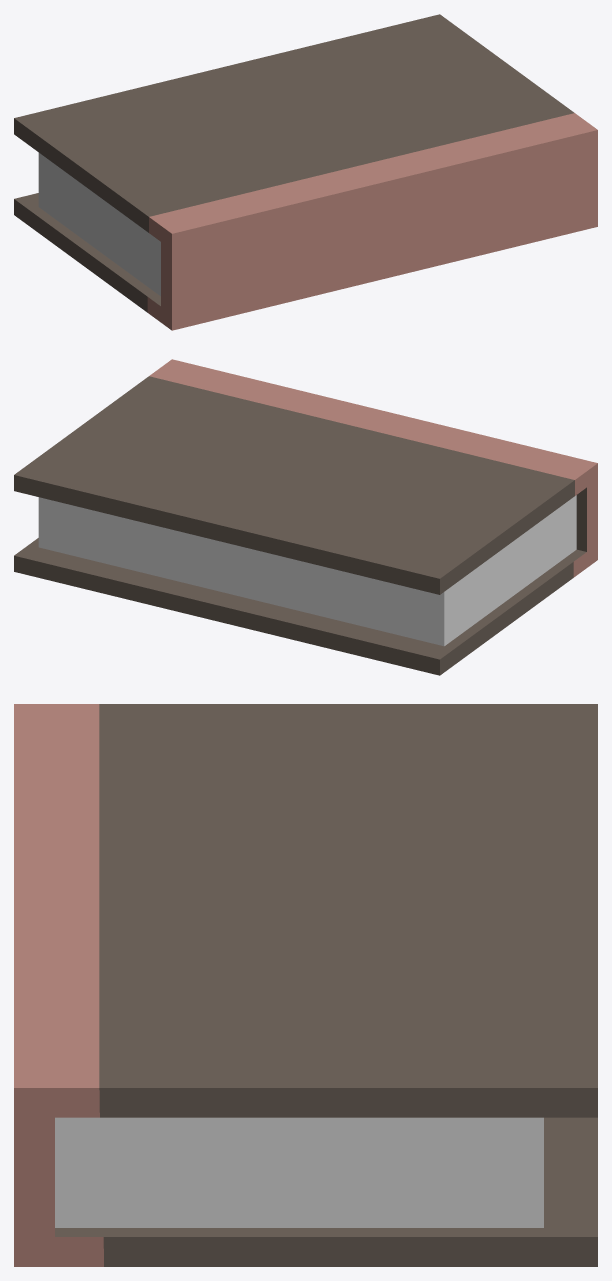
Rendered from book_1.fbx.
3 views of the same model, one above another, from view 1: azimuth 30°, elevation 25°; view 2: azimuth 150°, elevation 25°; view 3: azimuth 270°, elevation 25° (orthographic). The views are drawn at different scales.
Visible parts, largest first — view 1: Book.001; view 2: Book.001; view 3: Book.001.
Boxes of the visible parts, x1=… form: Book.001: x1=14, y1=14, x2=597, y2=330; Book.001: x1=14, y1=359, x2=597, y2=675; Book.001: x1=14, y1=704, x2=597, y2=1266.
Size of the model in its own units: 107 by 23.26 by 68.82.
